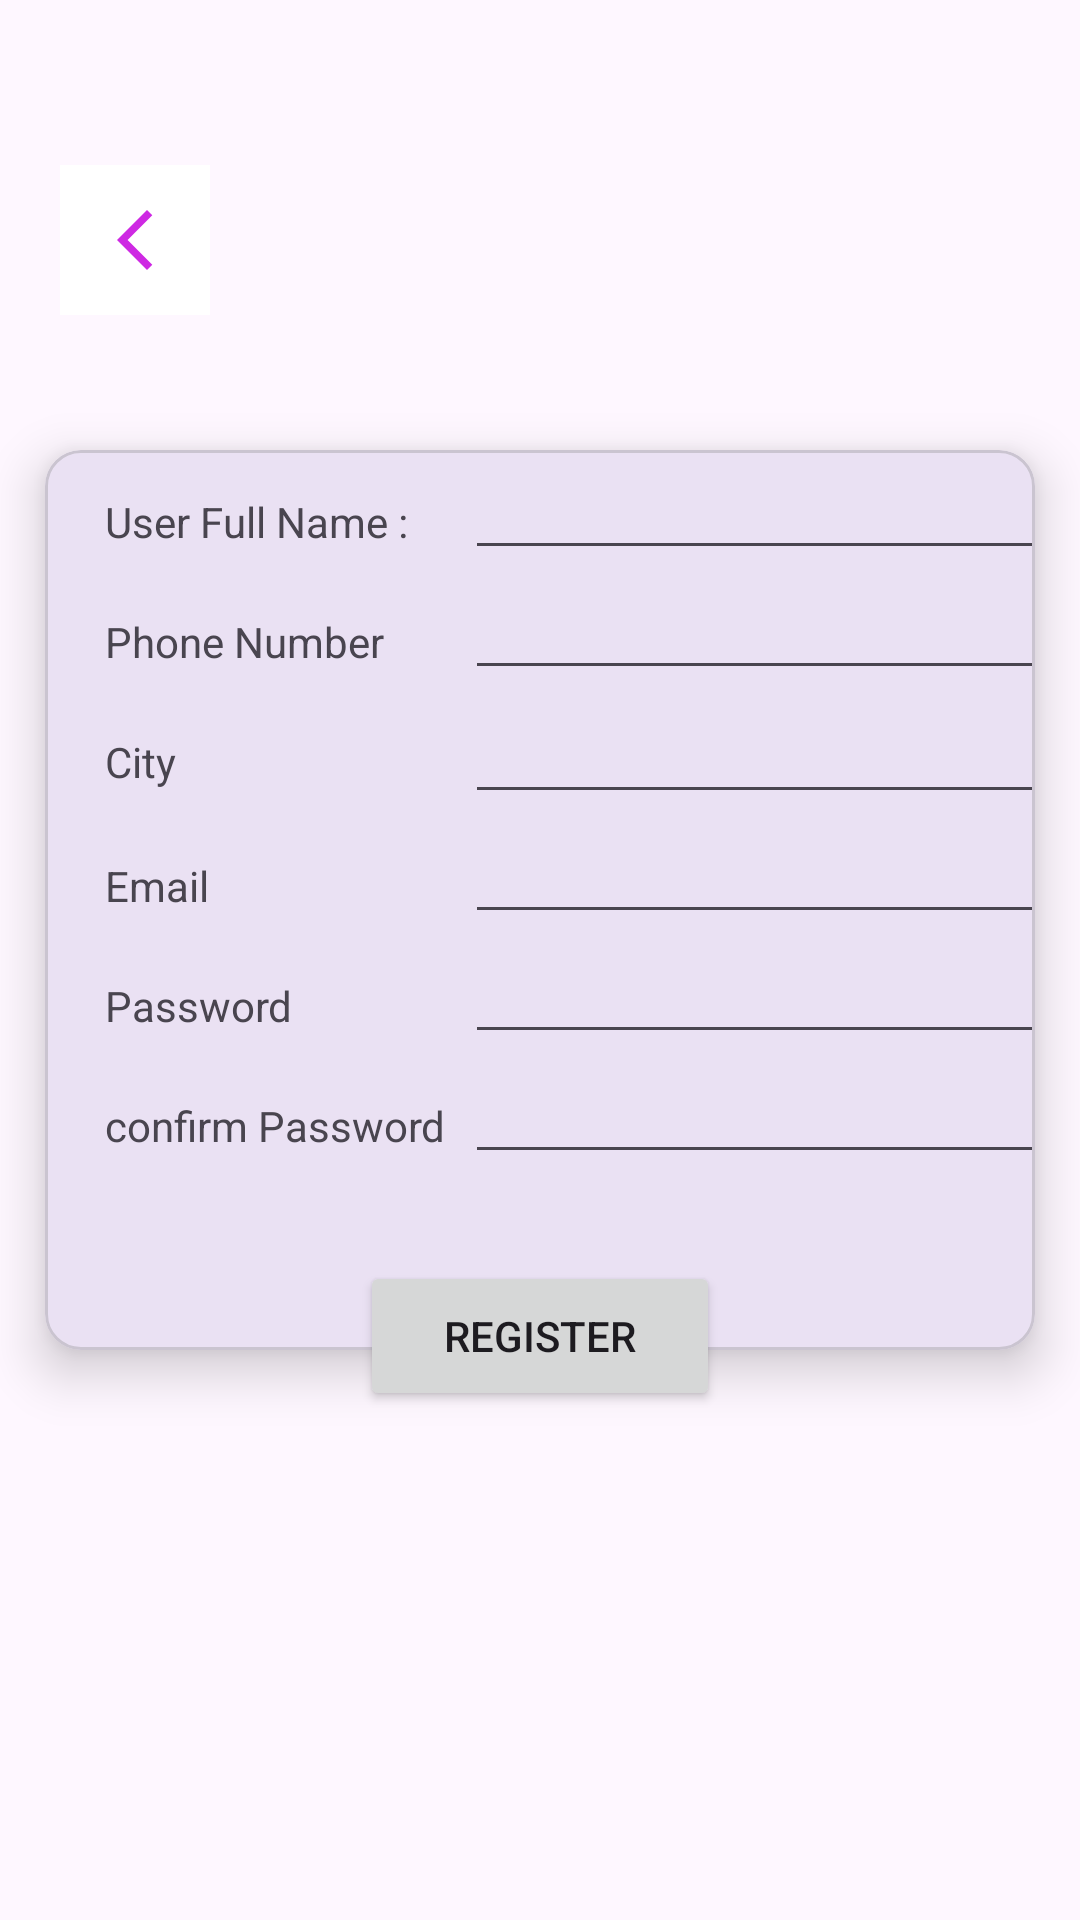

Screen size 1080px×1920px. Icon name, then its center in pixels as (x,y):
back: (134,240)
